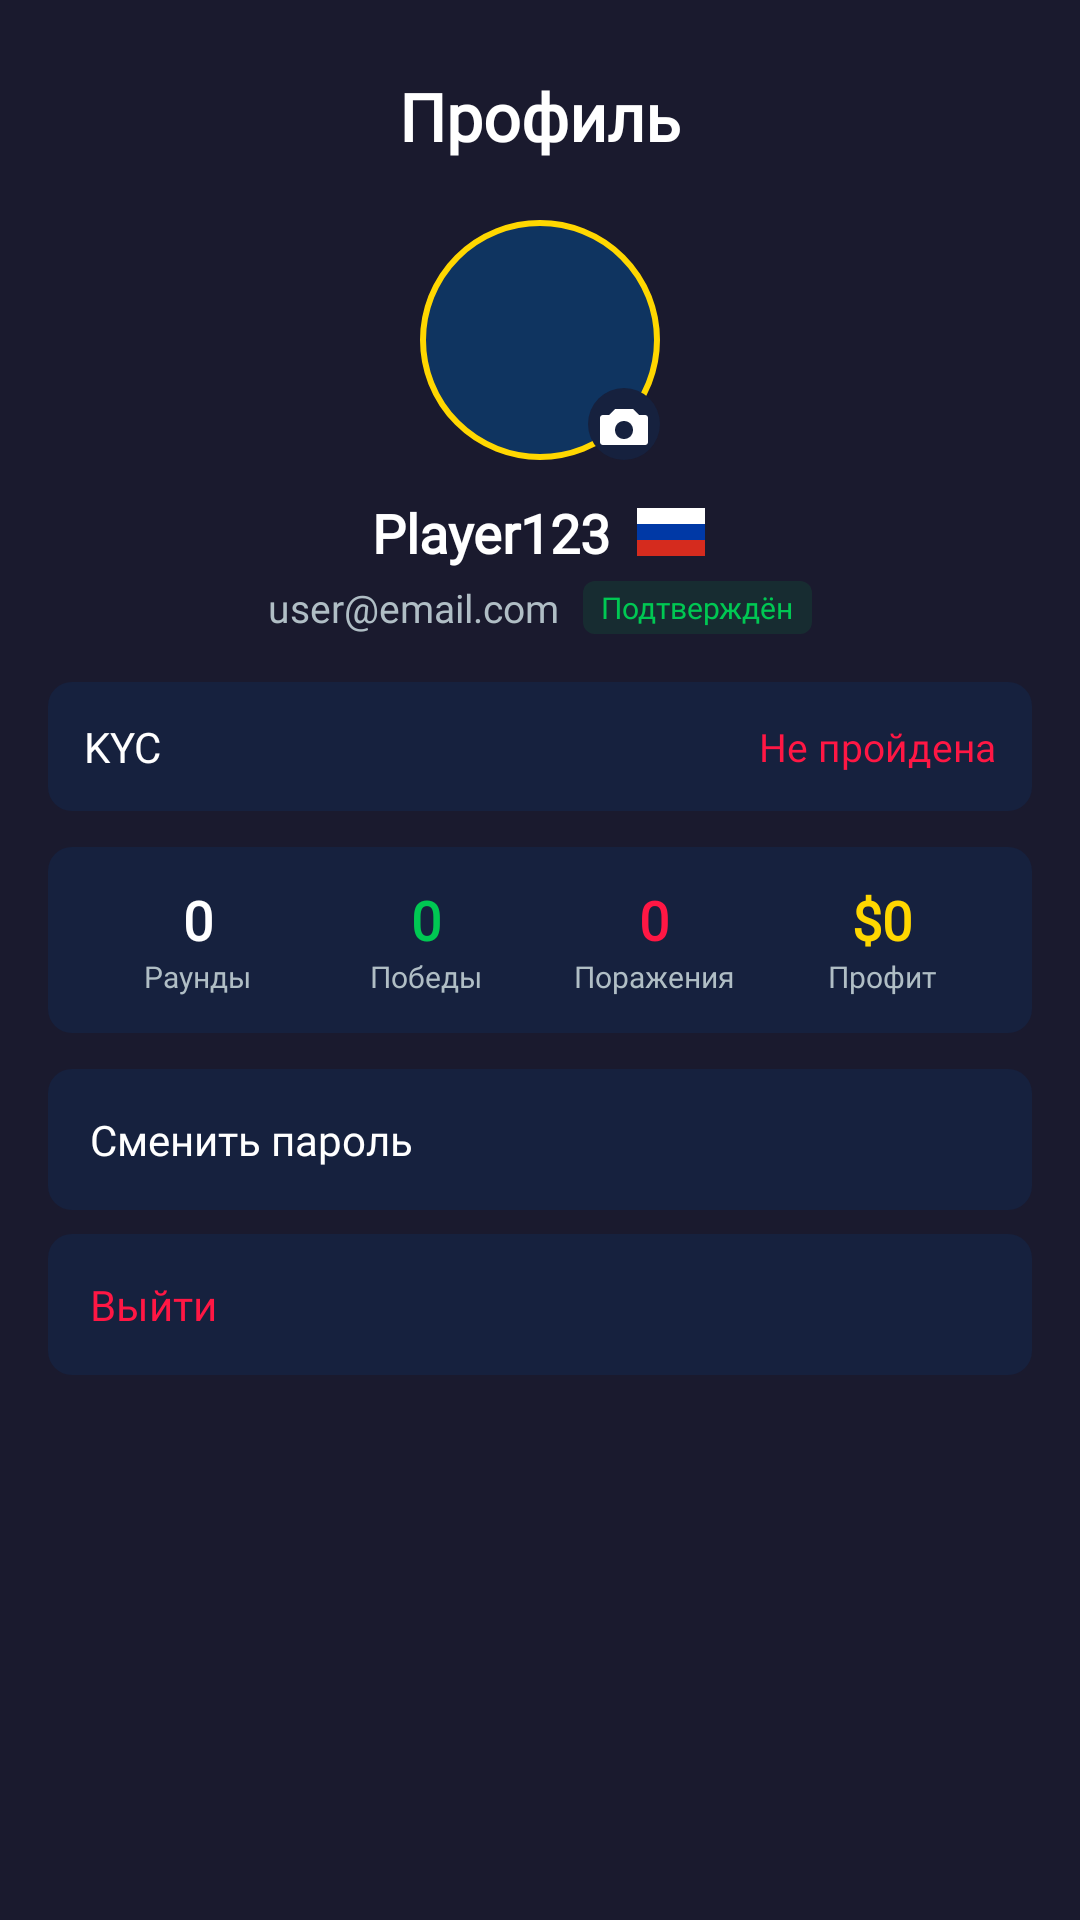

Where to tap for icons on this 1080 x 1920 app screen, as (x,y):
Сменить аватар: (624,424)
Страна: (671,532)
